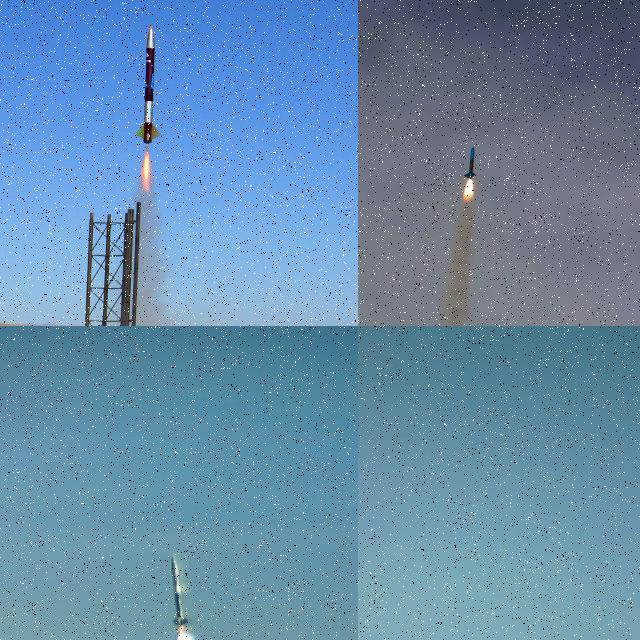Rocket: (133, 26, 164, 144), (170, 554, 188, 626), (463, 146, 476, 180)
